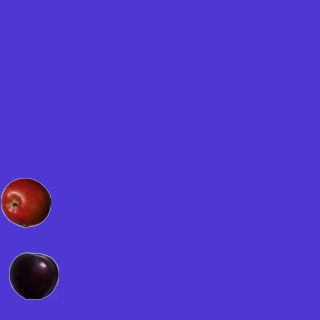Apple Braeburn: (0, 177, 50, 227)
Cherry Wax Black: (8, 250, 58, 300)
